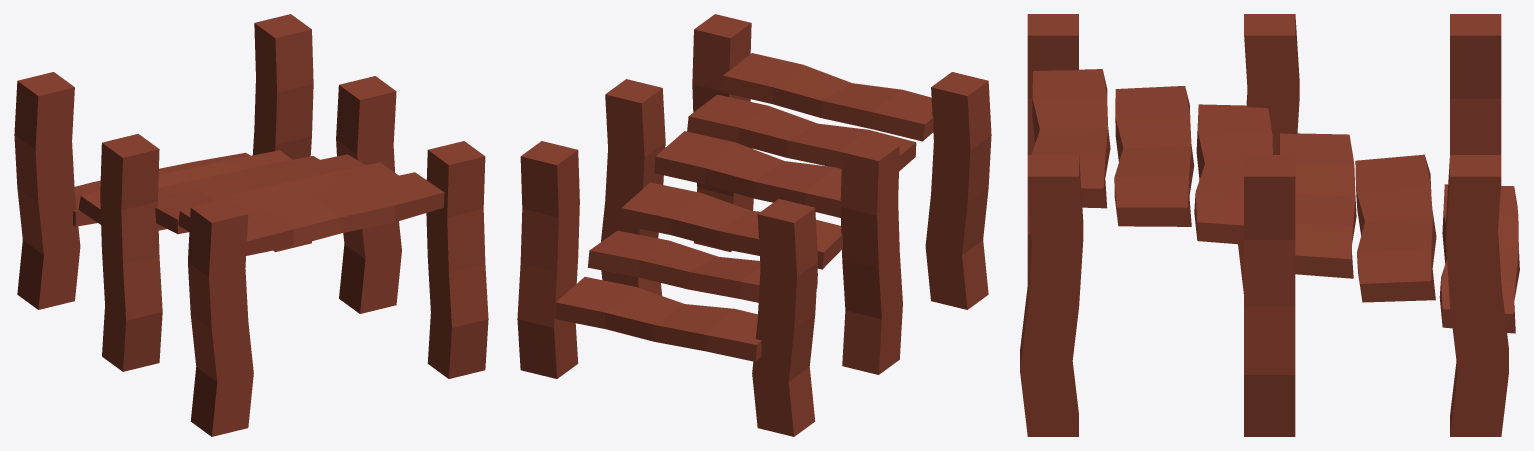
Rendered from woodstairs_2a.fbx.
The picture shows the model from 3 angles, left to right: view 1: azimuth 30°, elevation 25°; view 2: azimuth 150°, elevation 25°; view 3: azimuth 270°, elevation 25°; orthographic projection. The views are drawn at different scales.
Visible parts, largest first — view 1: woodstairs_2a; view 2: woodstairs_2a; view 3: woodstairs_2a.
Part boxes in pixels (bbox=[...]): woodstairs_2a: bbox=[14, 14, 488, 436]; woodstairs_2a: bbox=[517, 14, 991, 436]; woodstairs_2a: bbox=[1020, 14, 1519, 436].
Bounding box in the file's own units: 286 × 207 × 361.
